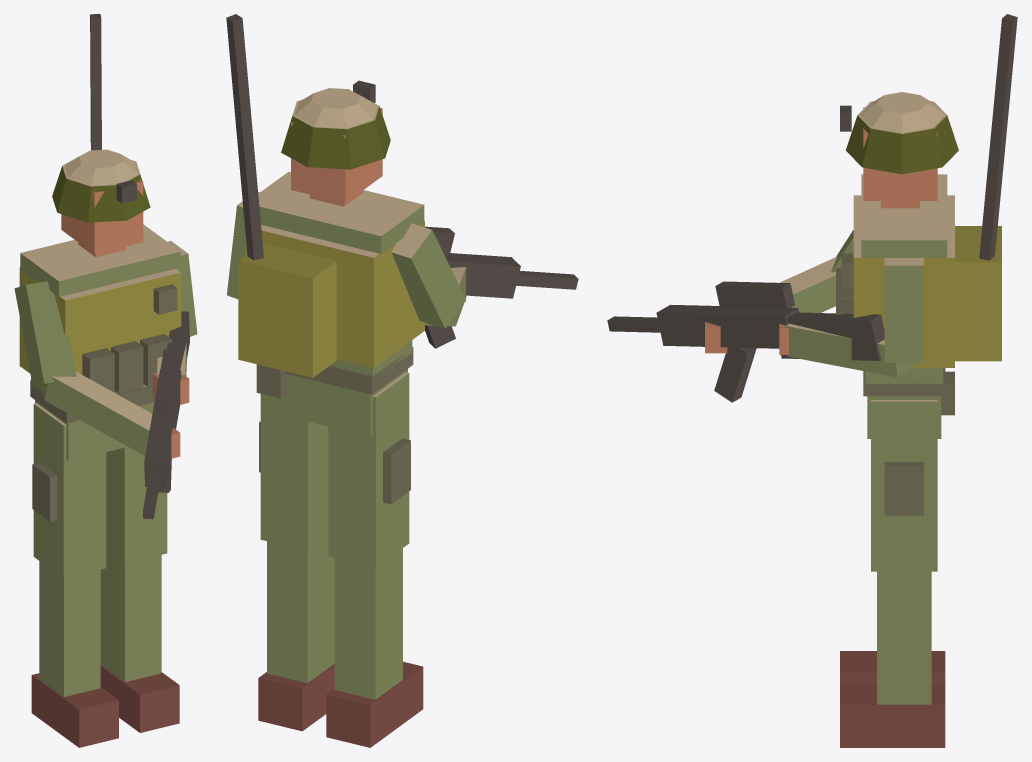
File: SM_SoldadoArmado_v5_G36E_Reposo_LOD0.fbx
The picture shows the model from 3 angles, left to right: view 1: azimuth 30°, elevation 25°; view 2: azimuth 150°, elevation 25°; view 3: azimuth 270°, elevation 25°; orthographic projection. The views are drawn at different scales.
Parts seen in each view (by area): view 1: SM_bloques.soldado_armado_v5_LOD0; view 2: SM_bloques.soldado_armado_v5_LOD0; view 3: SM_bloques.soldado_armado_v5_LOD0.
Part boxes in pixels (x1=…): SM_bloques.soldado_armado_v5_LOD0: x1=14, y1=14, x2=197, y2=747; SM_bloques.soldado_armado_v5_LOD0: x1=226, y1=14, x2=578, y2=747; SM_bloques.soldado_armado_v5_LOD0: x1=607, y1=14, x2=1017, y2=747.
Bounding box in the file's own units: 0.5789 × 2.05 × 1.05.
